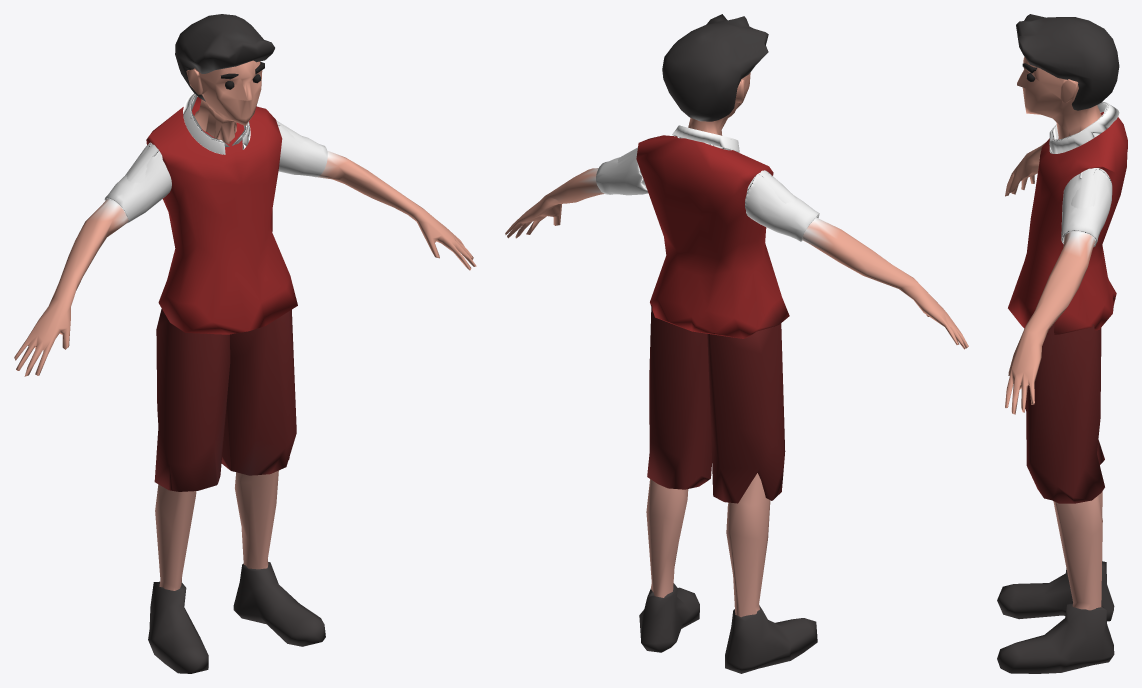
File: karakter 2.fbx
The picture shows the model from 3 angles, left to right: view 1: azimuth 30°, elevation 25°; view 2: azimuth 150°, elevation 25°; view 3: azimuth 270°, elevation 25°; orthographic projection.
Parts seen in each view (by area): view 1: Male_PlanesofHead_128; view 2: Male_PlanesofHead_128; view 3: Male_PlanesofHead_128.
Part boxes in pixels (x1,y1,x2,y2): Male_PlanesofHead_128: [14, 14, 476, 673]; Male_PlanesofHead_128: [505, 14, 968, 673]; Male_PlanesofHead_128: [997, 14, 1127, 673].
Size of the model in its own units: 5.53 by 7.13 by 1.37.
Materials: 1 (1 with a texture image).
